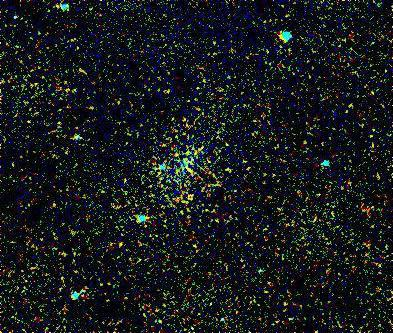star: (173, 184, 203, 214)
